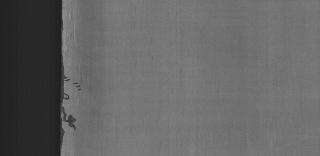oil spot: (60, 72, 82, 142)
